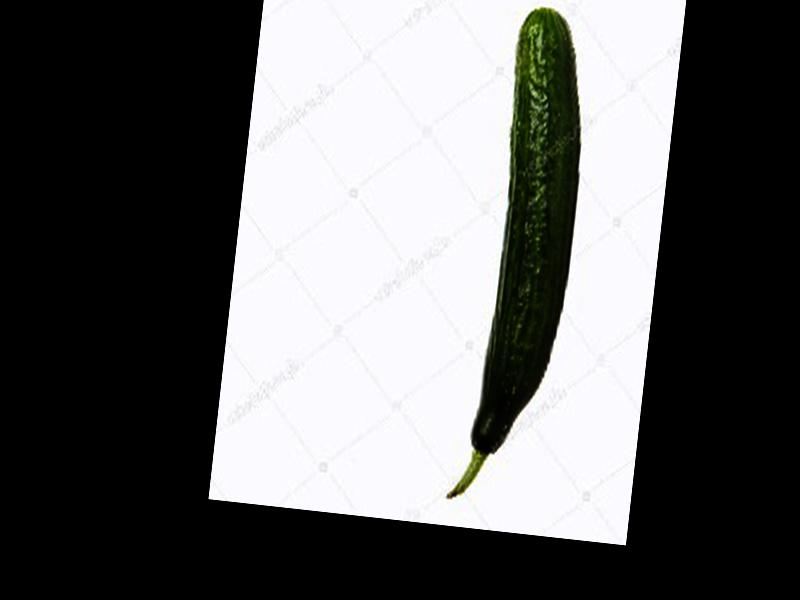Cucumber: (446, 5, 595, 511)
